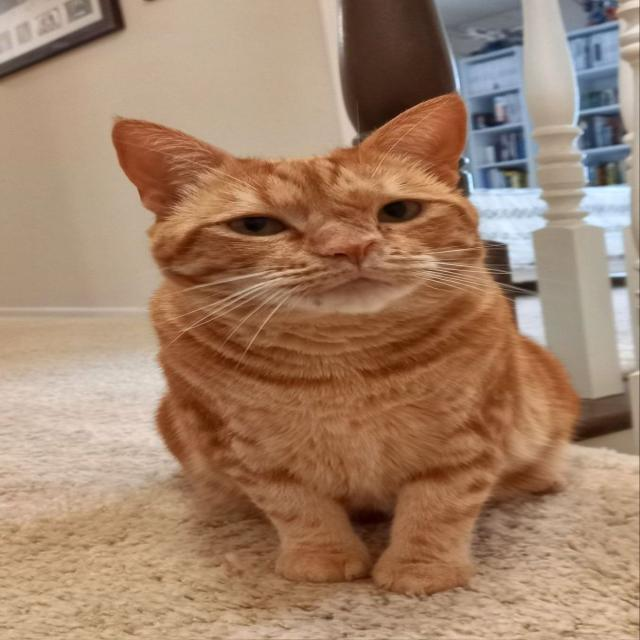sarman: (113, 93, 578, 595)
